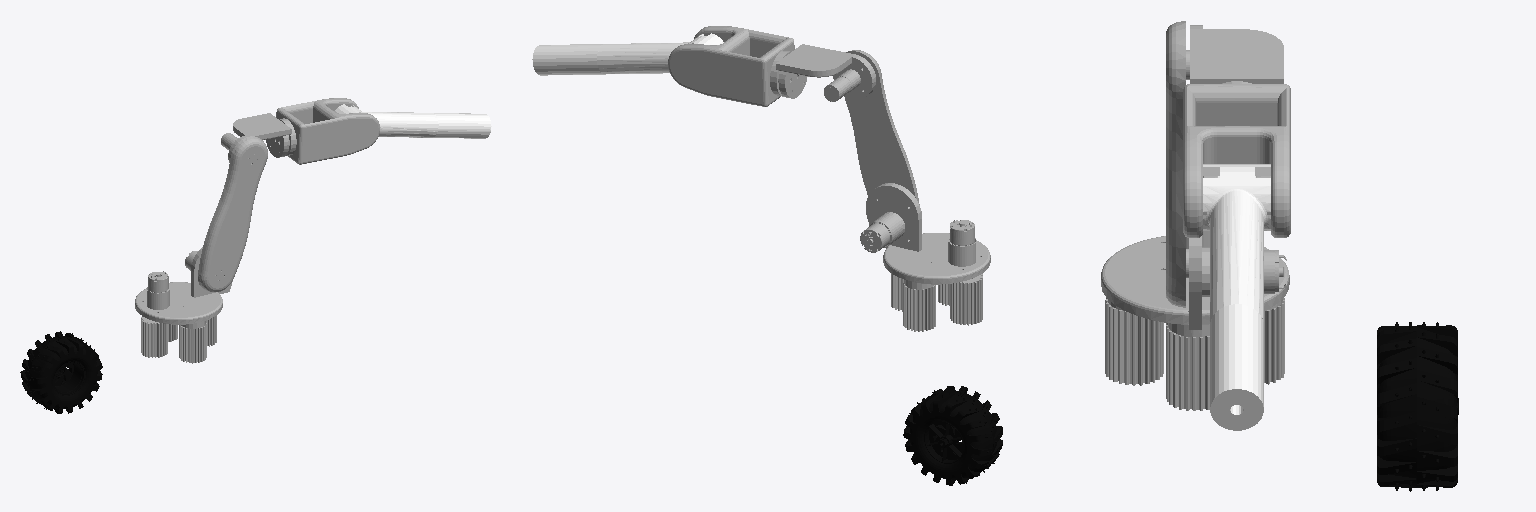
URDF robot description (robot):
<?xml version="1.0" encoding="utf-8" ?>
<!-- This URDF was automatically created by SolidWorks to URDF Exporter! Originally created by [author] ([email redacted]) 
     Commit Version: 1.5.1-0-g916b5db  Build Version: 1.5.7152.31018
     For more information, please see http://wiki.ros.org/sw_urdf_exporter -->
<robot name="robot">
    <link name="map" />
    <link name="base_link_Chasis">
        
<inertial>
            <origin xyz="-0.0112401823918047 0.000443693306025505 0.0601080455071435" rpy="0 0 0" />
            <mass value="5.34447797641956" />
            <inertia ixx="0.0273893594112689" ixy="1.69654538422057E-05" ixz="-1.08762432056227E-06" iyy="0.0269594894054598" iyz="8.26864136660382E-08" izz="0.0517209464806407" />
        </inertial>

        <visual>
            <origin xyz="0 0 0" rpy="0 0 0" />
            <geometry>
                <mesh filename="package://Ensamble_URDF_2ndT/meshes/base_link_Chasis.STL" />
            </geometry>
            <material name="">
                <color rgba="0.752941176470588 0.752941176470588 0.752941176470588 1" />
            </material>
        </visual>
        <collision>
            <origin xyz="0 0 0" rpy="0 0 0" />
            <geometry>
                <mesh filename="package://Ensamble_URDF_2ndT/meshes/base_link_Chasis.STL" />
            </geometry>
        </collision>
    </link>
    <link name="Link_1_1_wheel">
        
<inertial>
            <origin xyz="5.67991416164371E-07 2.82678237431555E-06 -0.0304872070529114" rpy="0 0 0" />
            <mass value="0.62241947518931" />
            <inertia ixx="0.000624907057081948" ixy="-3.27878592567662E-09" ixz="4.02329903687644E-11" iyy="0.000624902314874052" iyz="-5.11080571575358E-09" izz="0.00114905854450842" />
        </inertial>

        <visual>
            <origin xyz="0 0 0" rpy="0 0 0" />
            <geometry>
                <mesh filename="package://Ensamble_URDF_2ndT/meshes/Link_1_1_wheel.STL" />
            </geometry>
            <material name="">
                <color rgba="0.0752941176470588 0.0752941176470588 0.0752941176470588 1" />
            </material>
        </visual>
        <collision>
            <origin xyz="0 0 0" rpy="0 0 0" />
            <geometry>
                <mesh filename="package://Ensamble_URDF_2ndT/meshes/Link_1_1_wheel.STL" />
            </geometry>
        </collision>
    </link>
    <joint name="dummy_joint" type="fixed">
        <parent link="map" />
        <child link="base_link_Chasis" />
    </joint>
    <joint name="joint_1_1_wheel" type="continuous">
        <origin xyz="-0.12 -0.13348 0.0195" rpy="-1.5708 0 0" />
        <parent link="base_link_Chasis" />
        <child link="Link_1_1_wheel" />
        <axis xyz="0 0 -1" />
    </joint>
    <link name="Link_1_2_wheel">
        
<inertial>
            <origin xyz="2.73809271632286E-06 -9.0341635872182E-07 -0.0321210915173856" rpy="0 0 0" />
            <mass value="0.62241947518931" />
            <inertia ixx="0.00062490065579211" ixy="3.60794637957165E-10" ixz="4.42299708533631E-09" iyy="0.00062490871616389" iyz="-2.56106433818635E-09" izz="0.00114905854450842" />
        </inertial>

        <visual>
            <origin xyz="0 0 0" rpy="0 0 0" />
            <geometry>
                <mesh filename="package://Ensamble_URDF_2ndT/meshes/Link_1_2_wheel.STL" />
            </geometry>
            <material name="">
                <color rgba="0.0752941176470588 0.0752941176470588 0.0752941176470588 1" />
            </material>
        </visual>
        <collision>
            <origin xyz="0 0 0" rpy="0 0 0" />
            <geometry>
                <mesh filename="package://Ensamble_URDF_2ndT/meshes/Link_1_2_wheel.STL" />
            </geometry>
        </collision>
    </link>
    <joint name="joint_1_2_wheel" type="continuous">
        <origin xyz="-0.12 0.196084149285149 0.019499999999999" rpy="-1.5707963267949 0 0" />
        <parent link="base_link_Chasis" />
        <child link="Link_1_2_wheel" />
        <axis xyz="0 0 1" />
    </joint>
    <link name="Link_1_3_wheel">
        
<inertial>
            <origin xyz="2.45343850485691E-06 1.51457992322857E-06 -0.0304872070529117" rpy="0 0 0" />
            <mass value="0.622419475189312" />
            <inertia ixx="0.00062490125347859" ixy="-2.14254962013106E-09" ixz="-3.70732769567224E-09" iyy="0.000624908118477413" iyz="-3.51819202590978E-09" izz="0.00114905854450842" />
        </inertial>

        <visual>
            <origin xyz="0 0 0" rpy="0 0 0" />
            <geometry>
                <mesh filename="package://Ensamble_URDF_2ndT/meshes/Link_1_3_wheel.STL" />
            </geometry>
            <material name="">
                <color rgba="0.0752941176470588 0.0752941176470588 0.0752941176470588 1" />
            </material>
        </visual>
        <collision>
            <origin xyz="0 0 0" rpy="0 0 0" />
            <geometry>
                <mesh filename="package://Ensamble_URDF_2ndT/meshes/Link_1_3_wheel.STL" />
            </geometry>
        </collision>
    </link>
    <joint name="joint_1_3_wheel" type="continuous">
        <origin xyz="0.0800000000000007 -0.133475850714851 0.0195000000000001" rpy="-1.5707963267949 0 0" />
        <parent link="base_link_Chasis" />
        <child link="Link_1_3_wheel" />
        <axis xyz="0 0 -1" />
    </joint>
    <link name="Link_1_4_wheel">
        
<inertial>
            <origin xyz="6.88887376004699E-07 2.79977624520478E-06 -0.0321210915173857" rpy="0 0 0" />
            <mass value="0.622419475189308" />
            <inertia ixx="0.000624908723580364" ixy="2.6521354361954E-10" ixz="2.21122175098438E-09" iyy="0.000624900648375635" iyz="4.60786850205311E-09" izz="0.00114905854450842" />
        </inertial>

        <visual>
            <origin xyz="0 0 0" rpy="0 0 0" />
            <geometry>
                <mesh filename="package://Ensamble_URDF_2ndT/meshes/Link_1_4_wheel.STL" />
            </geometry>
            <material name="">
                <color rgba="0.0752941176470588 0.0752941176470588 0.0752941176470588 1" />
            </material>
        </visual>
        <collision>
            <origin xyz="0 0 0" rpy="0 0 0" />
            <geometry>
                <mesh filename="package://Ensamble_URDF_2ndT/meshes/Link_1_4_wheel.STL" />
            </geometry>
        </collision>
    </link>
    <joint name="joint_1_4_wheel" type="continuous">
        <origin xyz="0.08 0.19608 0.0195" rpy="-1.5708 0 0" />
        <parent link="base_link_Chasis" />
        <child link="Link_1_4_wheel" />
        <axis xyz="0 0 1" />
    </joint>
    <link name="Link_2_Arm">
        
<inertial>
            <origin xyz="0.00748196672374324 0.00102802561169185 0.0638410985827166" rpy="0 0 0" />
            <mass value="0.628890750175801" />
            <inertia ixx="0.000520538685244632" ixy="-2.12235972486672E-06" ixz="-0.000139357039232038" iyy="0.000728419435655154" iyz="-1.13027487326274E-06" izz="0.000770486257960158" />
        </inertial>

        <visual>
            <origin xyz="0 0 0" rpy="0 0 0" />
            <geometry>
                <mesh filename="package://Ensamble_URDF_2ndT/meshes/Link_2_Arm.STL" />
            </geometry>
            <material name="">
                <color rgba="0.752941176470588 0.752941176470588 0.752941176470588 1" />
            </material>
        </visual>
        <collision>
            <origin xyz="0 0 0" rpy="0 0 0" />
            <geometry>
                <mesh filename="package://Ensamble_URDF_2ndT/meshes/Link_2_Arm.STL" />
            </geometry>
        </collision>
    </link>
    <joint name="joint_2_Arm" type="revolute">
        <origin xyz="0 0 0.098503" rpy="0 0 0" />
        <parent link="base_link_Chasis" />
        <child link="Link_2_Arm" />
        <axis xyz="0 0 1" />
        <dynamics damping="0.1" friction="0.0" />
        <limit lower="-3.14" upper="3.14" effort="100" velocity="100" />
    </joint>
    <link name="Link_3_Arm">
        
<inertial>
            <origin xyz="0.0296690817173591 0.0937475303009118 0.0154851256686125" rpy="0 0 0" />
            <mass value="0.253359108687758" />
            <inertia ixx="0.00110683077017184" ixy="-0.000324885669810858" ixz="1.02859280609467E-07" iyy="0.000181665186280893" iyz="3.25419397857424E-07" izz="0.0012795061824751" />
        </inertial>

        <visual>
            <origin xyz="0 0 0" rpy="0 0 0" />
            <geometry>
                <mesh filename="package://Ensamble_URDF_2ndT/meshes/Link_3_Arm.STL" />
            </geometry>
            <material name="">
                <color rgba="0.752941176470588 0.752941176470588 0.752941176470588 1" />
            </material>
        </visual>
        <collision>
            <origin xyz="0 0 0" rpy="0 0 0" />
            <geometry>
                <mesh filename="package://Ensamble_URDF_2ndT/meshes/Link_3_Arm.STL" />
            </geometry>
        </collision>
    </link>
    <joint name="joint_3_Arm" type="revolute">
        <origin xyz="0.063383 0.0021739 0.12369" rpy="1.5708 0 0" />
        <parent link="Link_2_Arm" />
        <child link="Link_3_Arm" />
        <axis xyz="0.034278 0 0.99941" />
        <dynamics damping="0.1" friction="0.0" />
        <limit lower="-0.6" upper="1.4" effort="100" velocity="100" />
    </joint>
    <link name="Link_4_Arm">
        
<inertial>
            <origin xyz="0.12214 -0.0031288 -0.025262" rpy="0 0 0" />
            <mass value="0.5315" />
            <inertia ixx="0.00053038" ixy="3.203E-05" ixz="3.3052E-05" iyy="0.0012792" iyz="8.2845E-06" izz="0.0010824" />
        </inertial>

        <visual>
            <origin xyz="0 0 0" rpy="0 0 0" />
            <geometry>
                <mesh filename="package://Ensamble_URDF_2ndT/meshes/Link_4_Arm.STL" />
            </geometry>
            <material name="">
                <color rgba="0.75294 0.75294 0.75294 1" />
            </material>
        </visual>
        <collision>
            <origin xyz="0 0 0" rpy="0 0 0" />
            <geometry>
                <mesh filename="package://Ensamble_URDF_2ndT/meshes/Link_4_Arm.STL" />
            </geometry>
        </collision>
    </link>
    <joint name="joint_4_Arm" type="revolute">
        <origin xyz="0.060241 0.1907 -0.0020662" rpy="0 0 0" />
        <parent link="Link_3_Arm" />
        <child link="Link_4_Arm" />
        <axis xyz="-0.034278 0 -0.99941" />
        <dynamics damping="0.1" friction="0.0" />
        <limit lower="-1.57" upper="1.2" effort="100" velocity="100" />
    </joint>
    <link name="Link_5_Arm">
        
<inertial>
            <origin xyz="0.10453 -0.026221 -0.022979" rpy="0 0 0" />
            <mass value="0.34582" />
            <inertia ixx="0.00011962" ixy="0.00014937" ixz="1.8439E-11" iyy="0.00069107" iyz="-7.1519E-10" izz="0.0007295" />
        </inertial>

        <visual>
            <origin xyz="0 0 0" rpy="0 0 0" />
            <geometry>
                <mesh filename="package://Ensamble_URDF_2ndT/meshes/Link_5_Arm.STL" />
            </geometry>
            <material name="">
                <color rgba="1 1 1 1" />
            </material>
        </visual>
        <collision>
            <origin xyz="0 0 0" rpy="0 0 0" />
            <geometry>
                <mesh filename="package://Ensamble_URDF_2ndT/meshes/Link_5_Arm.STL" />
            </geometry>
        </collision>
    </link>
    <joint name="joint_5_Arm" type="revolute">
        <origin xyz="0.21278 -0.0095961 -0.0037813" rpy="0 0 0" />
        <parent link="Link_4_Arm" />
        <child link="Link_5_Arm" />
        <axis xyz="-0.034278 0 -0.99941" />
        <dynamics damping="0.1" friction="0.01" />
        <limit lower="-2.8" upper="2.8" effort="100" velocity="100" />
    </joint>
    
<transmission name="transmission_1_1_wheel">
        <type>transmission_interface/SimpleTransmission</type>
        <actuator name="motor_1_1_wheel">
            <hardwareInterface>hardware_interface/EffortJointInterface</hardwareInterface>
            <mechanicalReduction>75</mechanicalReduction>
        </actuator>
        <joint name="joint_1_1_wheel">
            <hardwareInterface>VelocityJointInterface</hardwareInterface>
        </joint>
    </transmission>
    <transmission name="transmission_1_2_wheel">
        <type>transmission_interface/SimpleTransmission</type>
        <actuator name="motor_1_2_wheel">
            <hardwareInterface>hardware_interface/EffortJointInterface</hardwareInterface>
            <mechanicalReduction>75</mechanicalReduction>
        </actuator>
        <joint name="joint_1_2_wheel">
            <hardwareInterface>VelocityJointInterface</hardwareInterface>
        </joint>
    </transmission>
    <transmission name="transmission_1_3_wheel">
        <type>transmission_interface/SimpleTransmission</type>
        <actuator name="motor_1_3_wheel">
            <hardwareInterface>hardware_interface/EffortJointInterface</hardwareInterface>
            <mechanicalReduction>75</mechanicalReduction>
        </actuator>
        <joint name="joint_1_3_wheel">
            <hardwareInterface>VelocityJointInterface</hardwareInterface>
        </joint>
    </transmission>
    <transmission name="transmission_1_4_wheel">
        <type>transmission_interface/SimpleTransmission</type>
        <actuator name="motor_1_4_wheel">
            <hardwareInterface>hardware_interface/EffortJointInterface</hardwareInterface>
            <mechanicalReduction>75</mechanicalReduction>
        </actuator>
        <joint name="joint_1_4_wheel">
            <hardwareInterface>VelocityJointInterface</hardwareInterface>
        </joint>
    </transmission>
    <transmission name="tran2">
        <type>transmission_interface/SimpleTransmission</type>
        <joint name="joint_2_Arm">
            <hardwareInterface>hardware_interface/EffortJointInterface</hardwareInterface>
        </joint>
        <actuator name="motor2">
            <hardwareInterface>EffortJointInterface</hardwareInterface>
            <mechanicalReduction>1</mechanicalReduction>
        </actuator>
    </transmission>
    <transmission name="tran3">
        <type>transmission_interface/SimpleTransmission</type>
        <joint name="joint_3_Arm">
            <hardwareInterface>hardware_interface/EffortJointInterface</hardwareInterface>
        </joint>
        <actuator name="motor3">
            <hardwareInterface>EffortJointInterface</hardwareInterface>
            <mechanicalReduction>1</mechanicalReduction>
        </actuator>
    </transmission>
    <transmission name="tran4">
        <type>transmission_interface/SimpleTransmission</type>
        <joint name="joint_4_Arm">
            <hardwareInterface>hardware_interface/EffortJointInterface</hardwareInterface>
        </joint>
        <actuator name="motor4">
            <hardwareInterface>EffortJointInterface</hardwareInterface>
            <mechanicalReduction>1</mechanicalReduction>
        </actuator>
    </transmission>
    <transmission name="tran5">
        <type>transmission_interface/SimpleTransmission</type>
        <joint name="joint_5_Arm">
            <hardwareInterface>hardware_interface/EffortJointInterface</hardwareInterface>
        </joint>
        <actuator name="motor5">
            <hardwareInterface>EffortJointInterface</hardwareInterface>
            <mechanicalReduction>1</mechanicalReduction>
        </actuator>
    </transmission>
    <gazebo>
        <plugin name="gazebo_ros_control" filename="libgazebo_ros_control.so">
            <robotNamespace>/robot</robotNamespace>
            <robotSimType>gazebo_ros_control/DefaultRobotHWSim</robotSimType>
        </plugin>
    </gazebo>
    <transmission name="trans_joint_1_1_wheel">
        <type>transmission_interface/SimpleTransmission</type>
        <joint name="joint_1_1_wheel">
            <hardwareInterface>hardware_interface/EffortJointInterface</hardwareInterface>
        </joint>
        <actuator name="joint_1_1_wheel_motor">
            <hardwareInterface>hardware_interface/EffortJointInterface</hardwareInterface>
            <mechanicalReduction>1</mechanicalReduction>
        </actuator>
    </transmission>
    <transmission name="trans_joint_1_2_wheel">
        <type>transmission_interface/SimpleTransmission</type>
        <joint name="joint_1_2_wheel">
            <hardwareInterface>hardware_interface/EffortJointInterface</hardwareInterface>
        </joint>
        <actuator name="joint_1_2_wheel_motor">
            <hardwareInterface>hardware_interface/EffortJointInterface</hardwareInterface>
            <mechanicalReduction>1</mechanicalReduction>
        </actuator>
    </transmission>
    <transmission name="trans_joint_1_3_wheel">
        <type>transmission_interface/SimpleTransmission</type>
        <joint name="joint_1_3_wheel">
            <hardwareInterface>hardware_interface/EffortJointInterface</hardwareInterface>
        </joint>
        <actuator name="joint_1_3_wheel_motor">
            <hardwareInterface>hardware_interface/EffortJointInterface</hardwareInterface>
            <mechanicalReduction>1</mechanicalReduction>
        </actuator>
    </transmission>
    <transmission name="trans_joint_1_4_wheel">
        <type>transmission_interface/SimpleTransmission</type>
        <joint name="joint_1_4_wheel">
            <hardwareInterface>hardware_interface/EffortJointInterface</hardwareInterface>
        </joint>
        <actuator name="joint_1_4_wheel_motor">
            <hardwareInterface>hardware_interface/EffortJointInterface</hardwareInterface>
            <mechanicalReduction>1</mechanicalReduction>
        </actuator>
    </transmission>
    <transmission name="trans_joint_2_Arm">
        <type>transmission_interface/SimpleTransmission</type>
        <joint name="joint_2_Arm">
            <hardwareInterface>hardware_interface/EffortJointInterface</hardwareInterface>
        </joint>
        <actuator name="joint_2_Arm_motor">
            <hardwareInterface>hardware_interface/EffortJointInterface</hardwareInterface>
            <mechanicalReduction>1</mechanicalReduction>
        </actuator>
    </transmission>
    <transmission name="trans_joint_3_Arm">
        <type>transmission_interface/SimpleTransmission</type>
        <joint name="joint_3_Arm">
            <hardwareInterface>hardware_interface/EffortJointInterface</hardwareInterface>
        </joint>
        <actuator name="joint_3_Arm_motor">
            <hardwareInterface>hardware_interface/EffortJointInterface</hardwareInterface>
            <mechanicalReduction>1</mechanicalReduction>
        </actuator>
    </transmission>
    <transmission name="trans_joint_4_Arm">
        <type>transmission_interface/SimpleTransmission</type>
        <joint name="joint_4_Arm">
            <hardwareInterface>hardware_interface/EffortJointInterface</hardwareInterface>
        </joint>
        <actuator name="joint_4_Arm_motor">
            <hardwareInterface>hardware_interface/EffortJointInterface</hardwareInterface>
            <mechanicalReduction>1</mechanicalReduction>
        </actuator>
    </transmission>
    <transmission name="trans_joint_5_Arm">
        <type>transmission_interface/SimpleTransmission</type>
        <joint name="joint_5_Arm">
            <hardwareInterface>hardware_interface/EffortJointInterface</hardwareInterface>
        </joint>
        <actuator name="joint_5_Arm_motor">
            <hardwareInterface>hardware_interface/EffortJointInterface</hardwareInterface>
            <mechanicalReduction>1</mechanicalReduction>
        </actuator>
    </transmission>
    <gazebo>
        <plugin name="gazebo_ros_control" filename="libgazebo_ros_control.so">
            <robotNamespace>/</robotNamespace>
        </plugin>
    </gazebo>
</robot>

--- Render facts (derived) ---
The picture shows the robot from 3 angles, left to right: view 1: azimuth 30°, elevation 25°; view 2: azimuth 150°, elevation 25°; view 3: azimuth 270°, elevation 25°; orthographic projection.
Robot: robot — 10 links, 9 joints (4 revolute, 4 continuous, 1 fixed); root link map; default pose: every joint at zero.
Visible links, largest first — view 1: Link_4_Arm, Link_2_Arm, Link_3_Arm, Link_1_2_wheel, Link_5_Arm; view 2: Link_2_Arm, Link_4_Arm, Link_1_2_wheel, Link_3_Arm, Link_5_Arm; view 3: Link_2_Arm, Link_4_Arm, Link_5_Arm, Link_1_2_wheel, Link_3_Arm.
Boxes of the visible links, x1=… form: Link_4_Arm: x1=221, y1=98, x2=379, y2=164; Link_2_Arm: x1=135, y1=247, x2=232, y2=363; Link_3_Arm: x1=198, y1=136, x2=267, y2=291; Link_1_2_wheel: x1=20, y1=331, x2=102, y2=413; Link_5_Arm: x1=334, y1=104, x2=491, y2=138; Link_2_Arm: x1=860, y1=183, x2=990, y2=331; Link_4_Arm: x1=668, y1=26, x2=875, y2=106; Link_1_2_wheel: x1=903, y1=386, x2=1002, y2=485; Link_3_Arm: x1=844, y1=50, x2=919, y2=204; Link_5_Arm: x1=532, y1=33, x2=723, y2=75; Link_2_Arm: x1=1101, y1=231, x2=1289, y2=410; Link_4_Arm: x1=1183, y1=25, x2=1290, y2=237; Link_5_Arm: x1=1203, y1=164, x2=1270, y2=430; Link_1_2_wheel: x1=1377, y1=322, x2=1458, y2=491; Link_3_Arm: x1=1166, y1=21, x2=1189, y2=307.
Size in the robot's own frame: 0.767 by 0.2658 by 0.4895 metres.
Meshes: 9 distinct files referenced, 5 mesh visuals loaded (5 binary STL); not drawn: 4 (reference not matched to a file when rendering).
